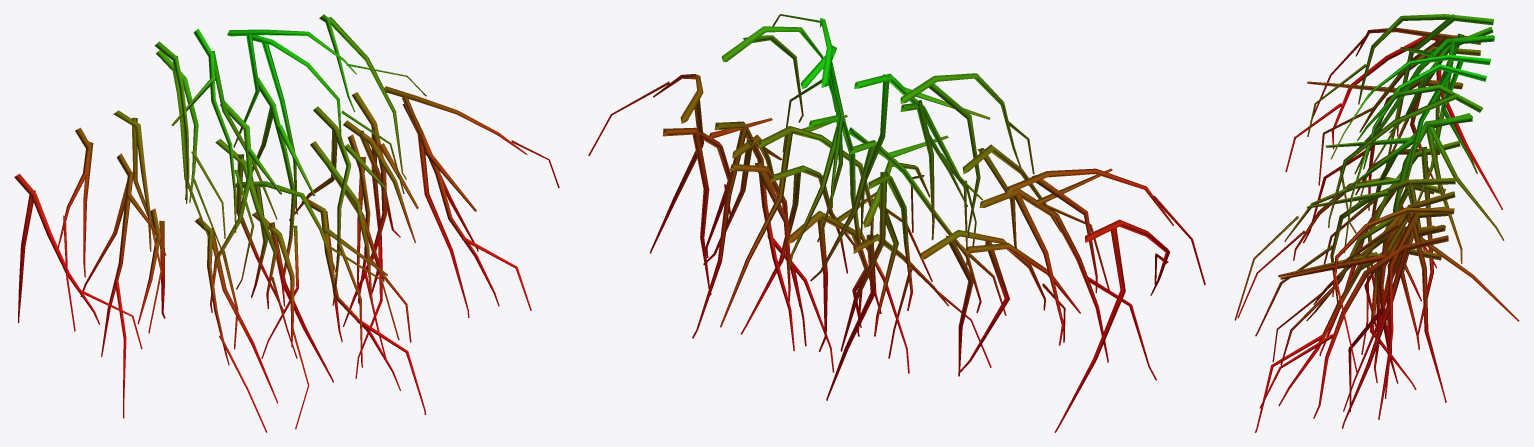
File: Var14_LOD3.fbx
The picture shows the model from 3 angles, left to right: view 1: azimuth 30°, elevation 25°; view 2: azimuth 150°, elevation 25°; view 3: azimuth 270°, elevation 25°; orthographic projection. The views are drawn at different scales.
Parts seen in each view (by area): view 1: _4b7d_Var14_LOD3; view 2: _4b7d_Var14_LOD3; view 3: _4b7d_Var14_LOD3.
Part boxes in pixels (bbox=[...]): _4b7d_Var14_LOD3: bbox=[14, 14, 559, 432]; _4b7d_Var14_LOD3: bbox=[588, 14, 1205, 432]; _4b7d_Var14_LOD3: bbox=[1234, 14, 1519, 432].
Bounding box in the file's own units: 105 × 67.79 × 49.51.
